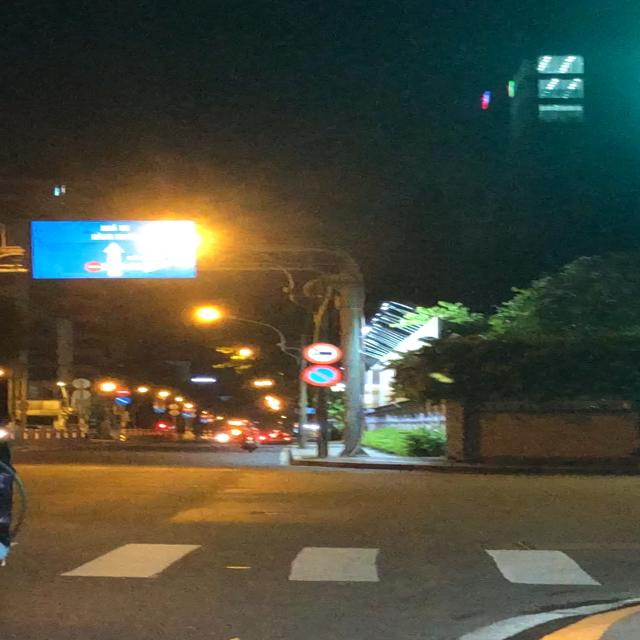Bien bao cam xe so-mi ro-mooc: (298, 341, 352, 366)
